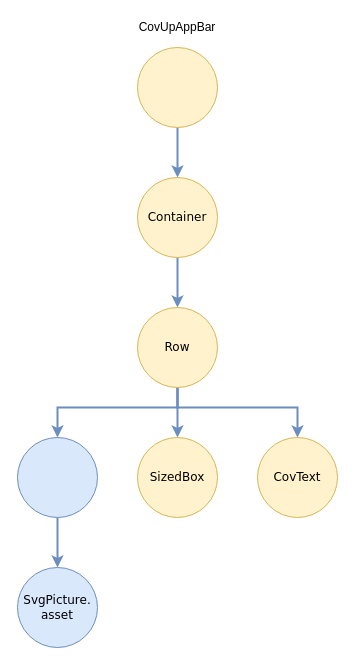
The diagram is 355 pixels wide and 665 high, and some of its shapes have lost their labels. Here are the shapes that lost their labels. From the top down, the box of each, then its label:
(136, 46, 218, 128): AppBar
(16, 436, 98, 518): IconButton
